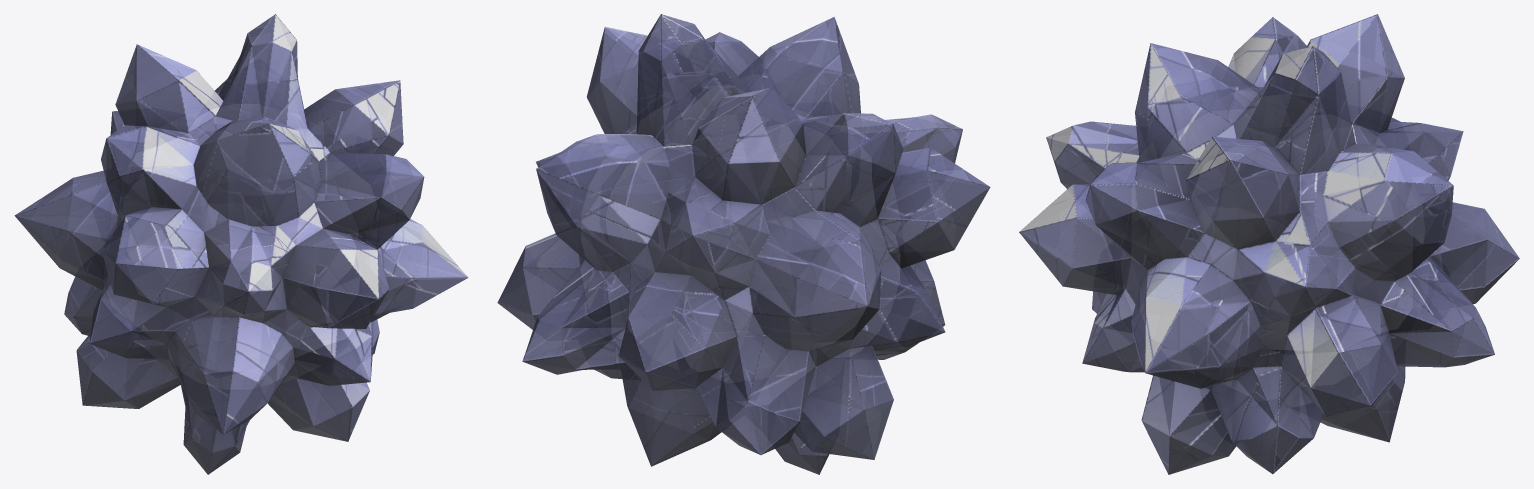
Rendered from MD_star.fbx.
3 renders of one model, left to right at view 1: azimuth 30°, elevation 25°; view 2: azimuth 150°, elevation 25°; view 3: azimuth 270°, elevation 25°, orthographic. The views are drawn at different scales.
Visible parts, largest first — view 1: star; view 2: star; view 3: star.
Part boxes in pixels (x1,y1,x2,y2): star: (14,14,468,474); star: (497,14,990,474); star: (1019,14,1519,474).
Size of the model in its own units: 468 by 530 by 529.
